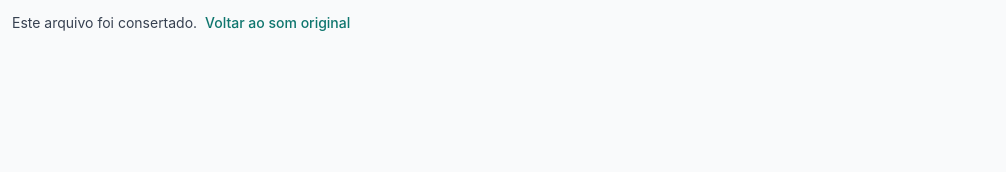
Test: ConsertarArquivo (V16.4) › Voltar ao som original avisa o que se perde e pede confirmação
The width and height of the screenshot is (1006, 172).
Later steps or results of the test are not shown.
Click the button "Voltar ao som original" at (278, 22), box [201,12,354,33]
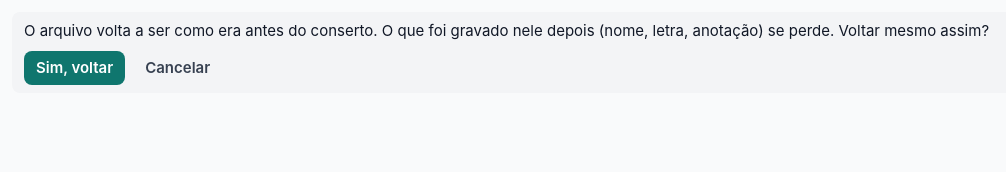
expect the text "se perde" is shown: met, box [24,21,989,40]
